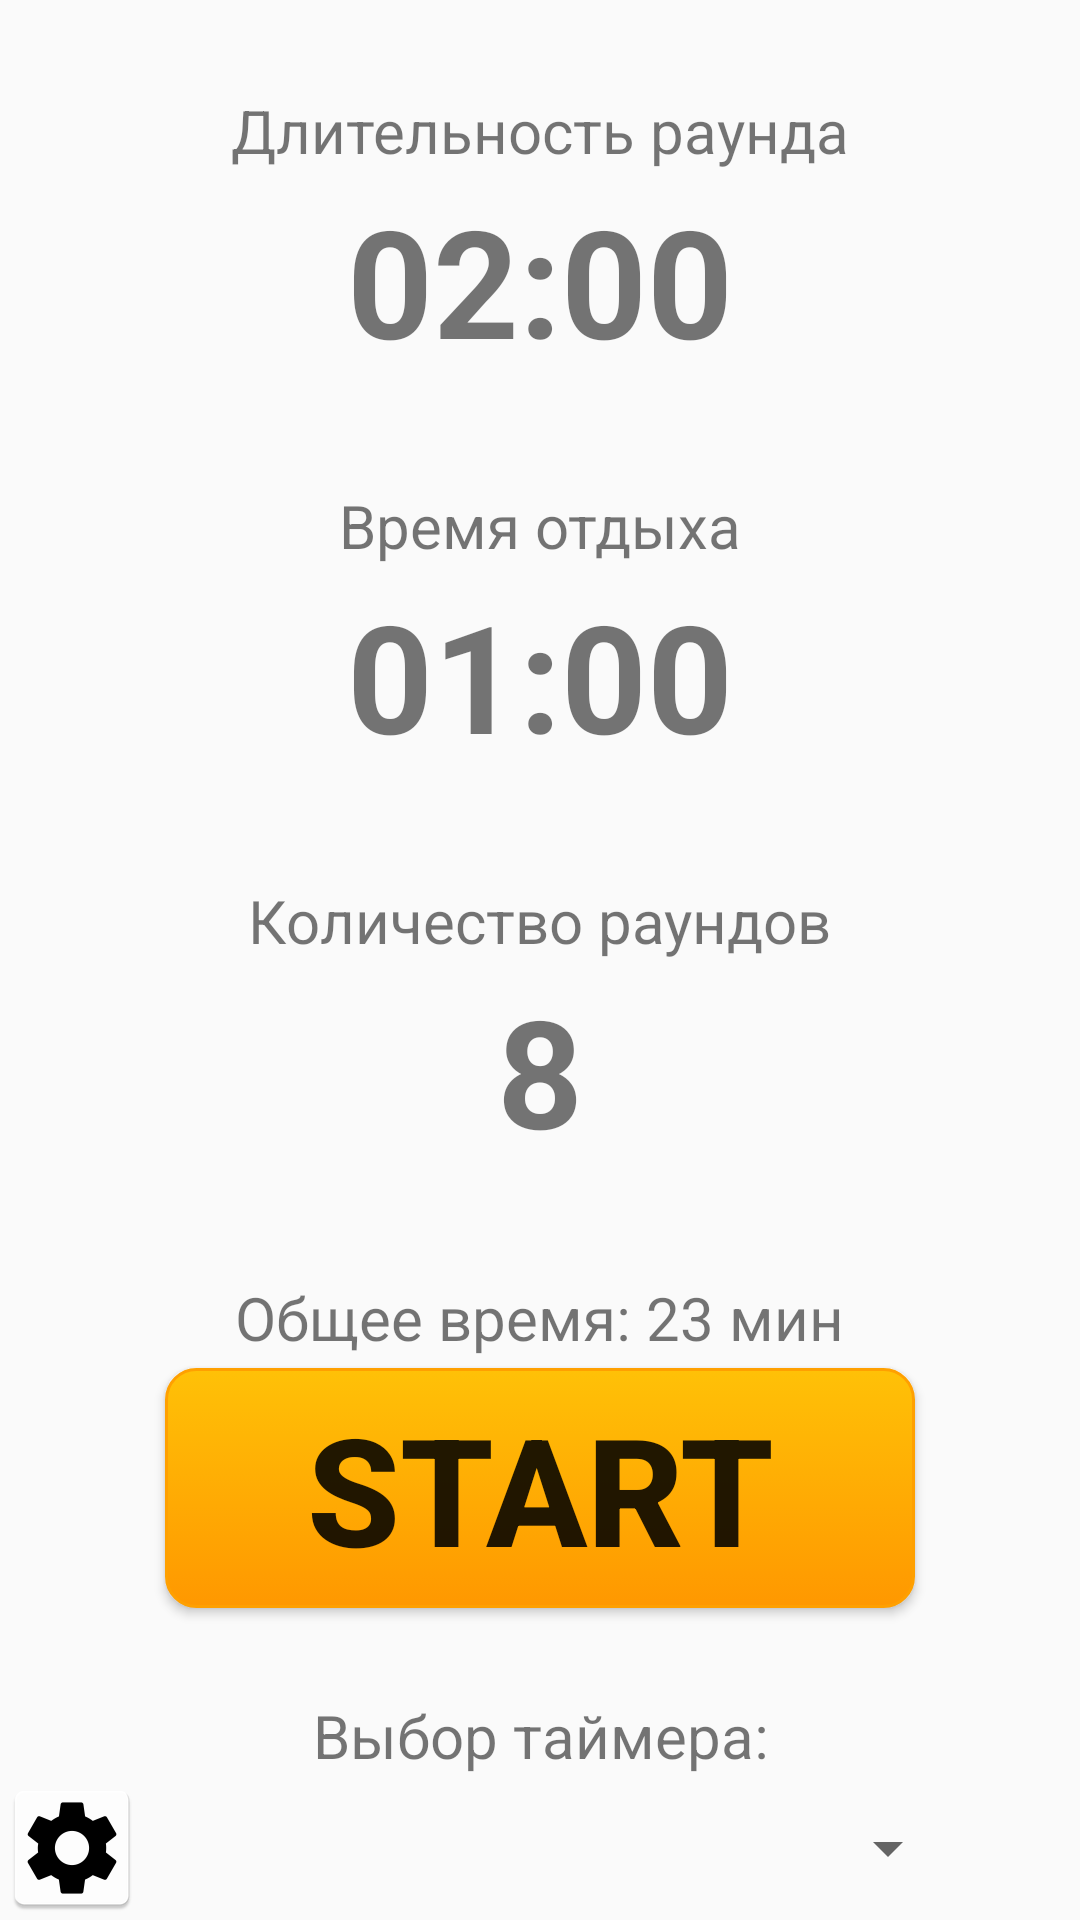

Screen size 1080*1920. Icon name, then its box in pixels as (x1, y1, x2, y2):
settings: (15, 1797, 130, 1909)
